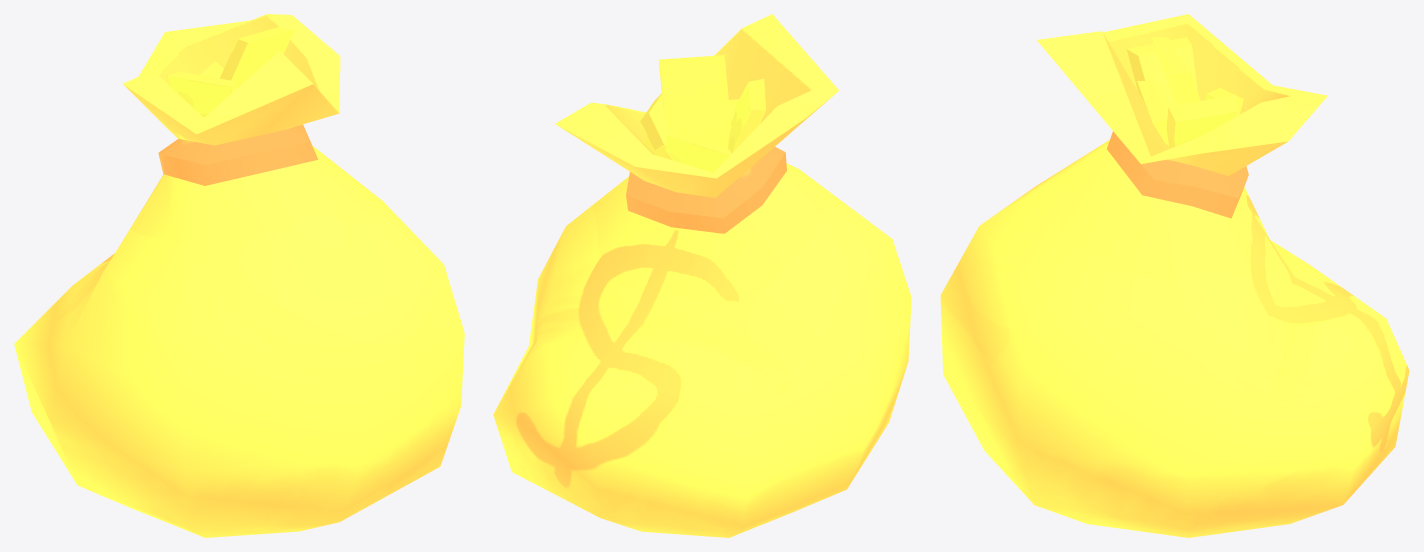
Rendered from Bag.fbx.
3 views of the same model, side by side, from view 1: azimuth 30°, elevation 25°; view 2: azimuth 150°, elevation 25°; view 3: azimuth 270°, elevation 25° (orthographic). The views are drawn at different scales.
Visible parts, largest first — view 1: Valuable_Bag; view 2: Valuable_Bag; view 3: Valuable_Bag.
Boxes of the visible parts, x1,y1,x2,y2 form: Valuable_Bag: [14, 14, 464, 537]; Valuable_Bag: [493, 14, 911, 537]; Valuable_Bag: [940, 14, 1409, 537].
Bounding box in the file's own units: 117 × 141 × 130.
